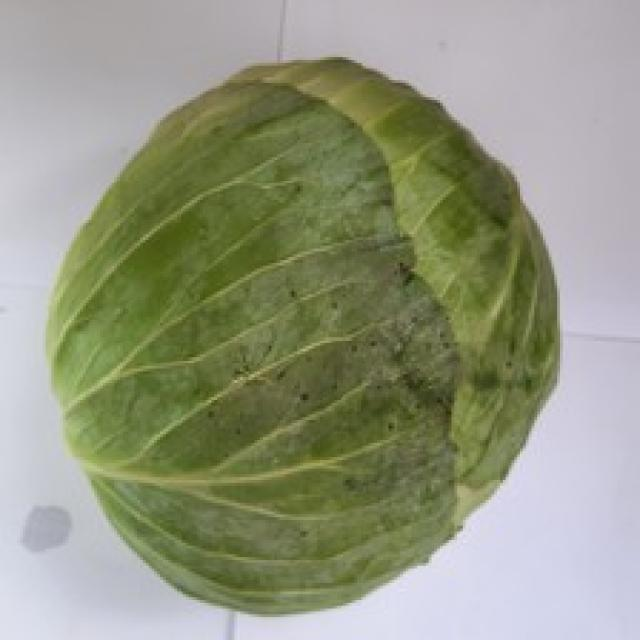Cabbage: (43, 52, 560, 617)
